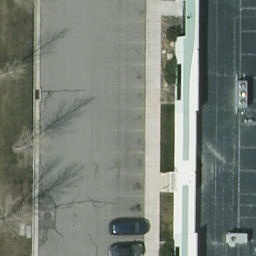car: (109, 218, 151, 236)
